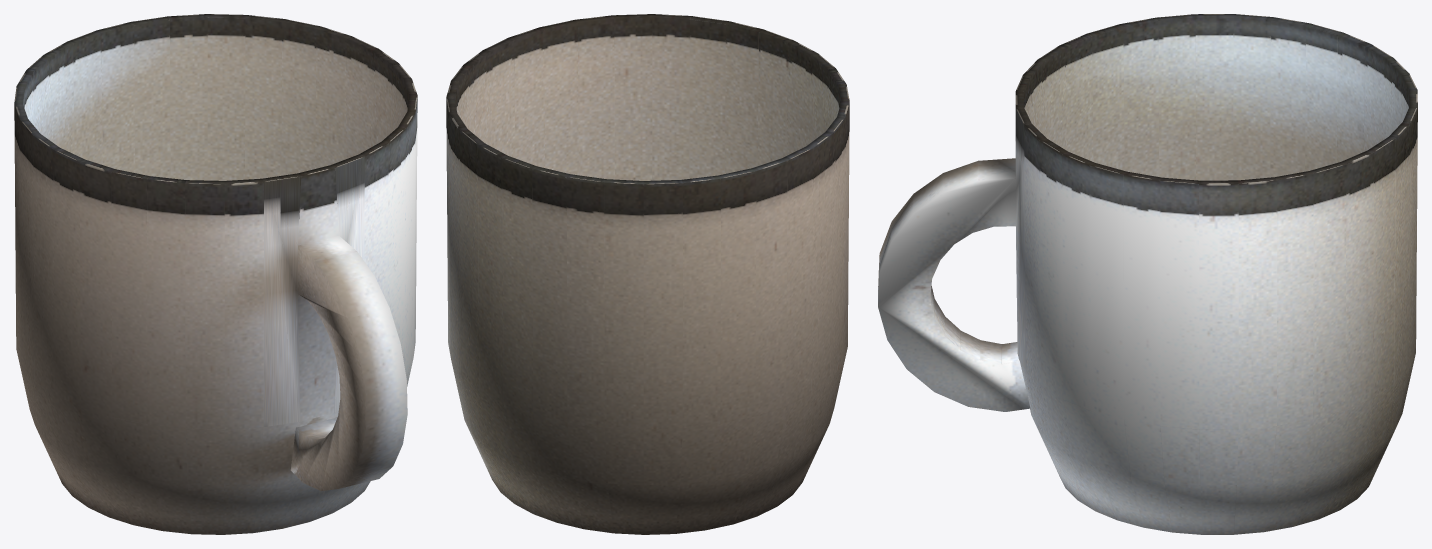
The model's file is cupp.fbx.
3 renders of one model, left to right at view 1: azimuth 30°, elevation 25°; view 2: azimuth 150°, elevation 25°; view 3: azimuth 270°, elevation 25°, orthographic.
Parts seen in each view (by area): view 1: cuplow; view 2: cuplow; view 3: cuplow.
Boxes of the visible parts, box(x1,y1,x2,y2) form: cuplow: box(14, 14, 417, 534); cuplow: box(446, 14, 849, 534); cuplow: box(878, 14, 1417, 534).
Size of the model in its own units: 0.0793 by 0.1064 by 0.0803.
Materials: 1 (1 with a texture image).
